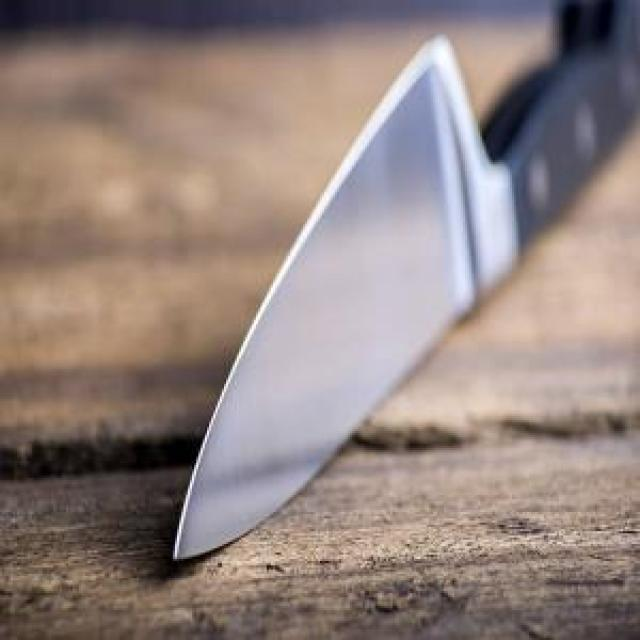knife: (167, 32, 630, 564)
